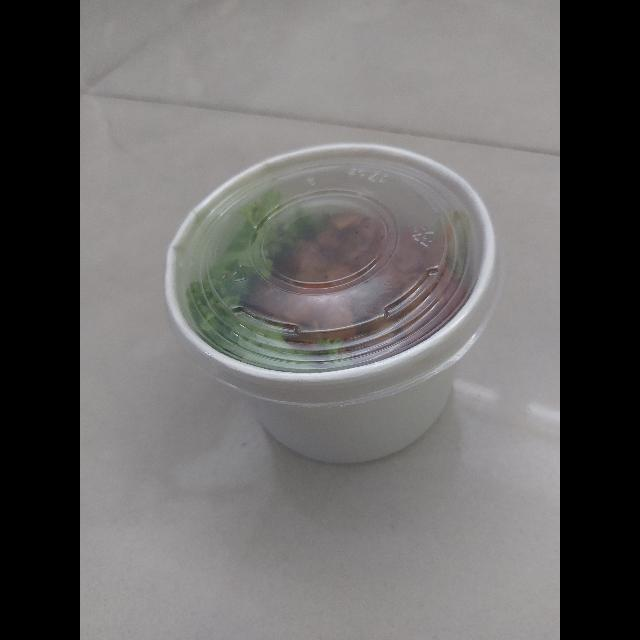rice-bowl: (153, 128, 528, 489)
